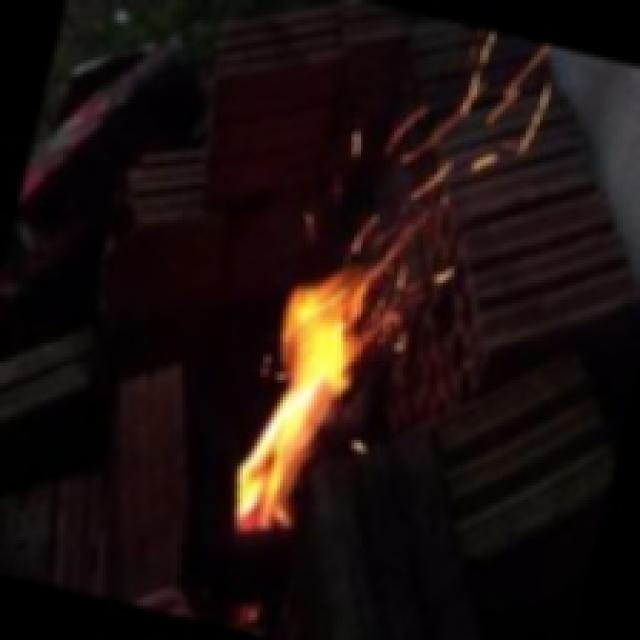fire: (197, 29, 457, 560)
